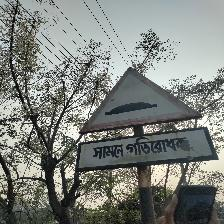Speed-breaker: (76, 67, 218, 171)
